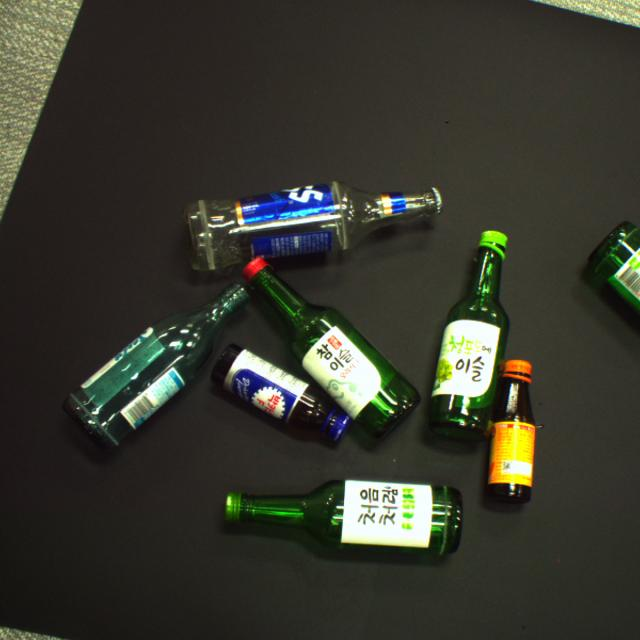beer-bottle: (184, 179, 443, 270)
soju-bottle: (243, 256, 420, 437), (67, 283, 249, 446), (225, 480, 463, 555), (429, 230, 510, 439), (588, 221, 639, 318)
